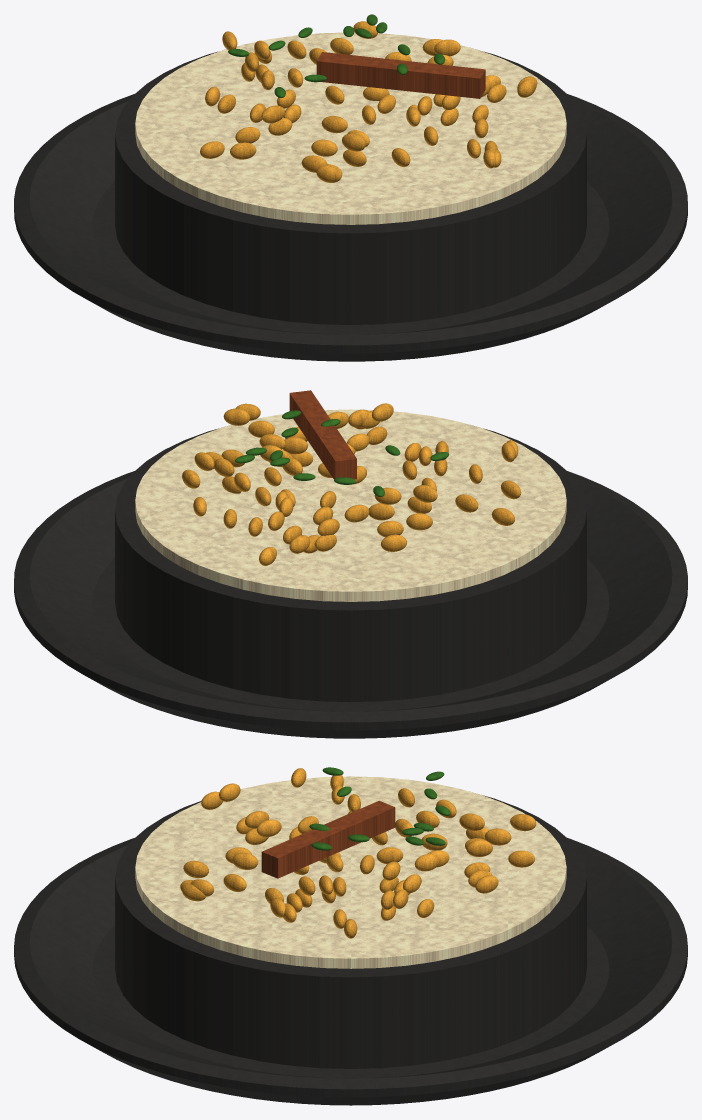
The model's file is arroz-leche-brulee.glb.
The picture shows the model from 3 angles, top to bottom: view 1: azimuth 30°, elevation 25°; view 2: azimuth 150°, elevation 25°; view 3: azimuth 270°, elevation 25°; orthographic projection.
Visible parts, largest first — view 1: part1, part0, part2, part3, part4, part5; view 2: part1, part0, part2, part3, part4, part5; view 3: part1, part0, part2, part3, part4, part5.
Boxes of the visible parts, bbox=[...] form: part1: bbox=[115, 51, 586, 324]; part0: bbox=[14, 94, 687, 361]; part2: bbox=[135, 32, 566, 224]; part3: bbox=[200, 21, 537, 182]; part4: bbox=[316, 52, 485, 98]; part5: bbox=[228, 14, 445, 97]; part1: bbox=[115, 428, 586, 702]; part0: bbox=[14, 471, 687, 738]; part2: bbox=[135, 409, 566, 601]; part3: bbox=[182, 403, 521, 565]; part4: bbox=[289, 390, 356, 479]; part5: bbox=[235, 410, 449, 496]; part1: bbox=[115, 795, 586, 1068]; part0: bbox=[14, 838, 687, 1105]; part2: bbox=[135, 776, 566, 968]; part3: bbox=[180, 768, 536, 938]; part4: bbox=[261, 800, 395, 878]; part5: bbox=[309, 767, 450, 850].
Size of the model in its own units: 0.3 by 0.0915 by 0.3.
Materials: 6 (6 with a texture image).
